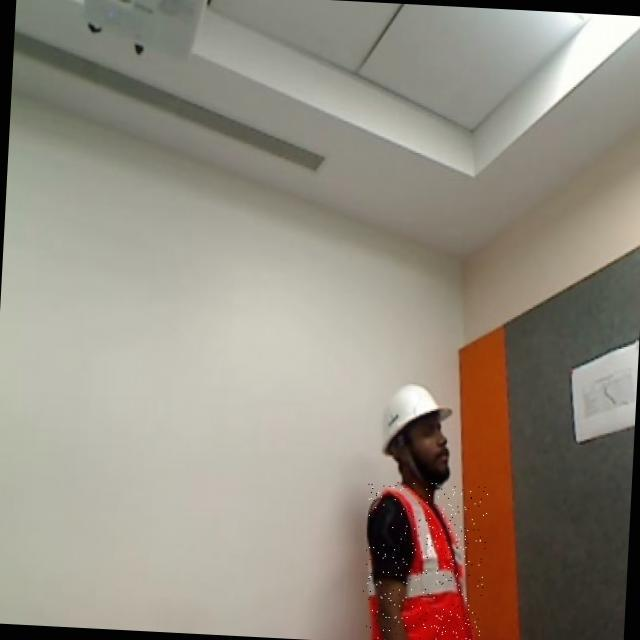helmet: (379, 377, 462, 461)
vest: (360, 480, 489, 640)
